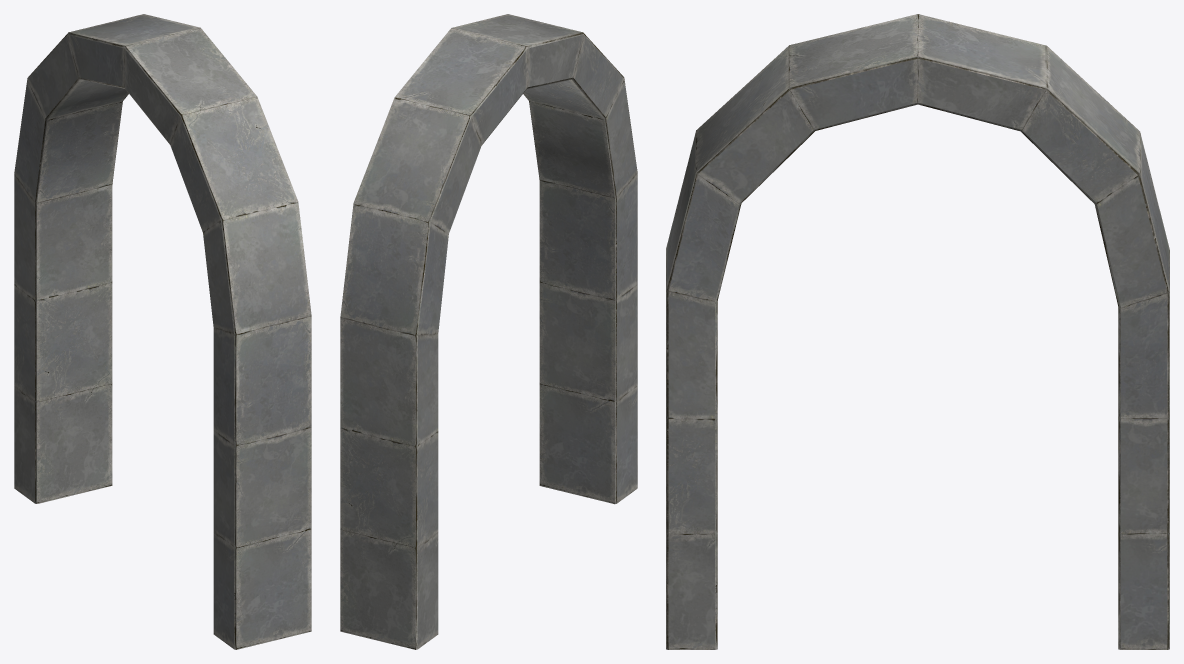
File: FBX_Doorway_Rugged.fbx
3 views of the same model, side by side, from view 1: azimuth 30°, elevation 25°; view 2: azimuth 150°, elevation 25°; view 3: azimuth 270°, elevation 25° (orthographic). The views are drawn at different scales.
Visible parts, largest first — view 1: Doorway_Rugged; view 2: Doorway_Rugged; view 3: Doorway_Rugged.
Boxes of the visible parts, left/top/right/bottom form: Doorway_Rugged: left=14, top=14, right=311, bottom=649; Doorway_Rugged: left=340, top=14, right=637, bottom=649; Doorway_Rugged: left=666, top=14, right=1169, bottom=649.
Bounding box in the file's own units: 50.65 × 327 × 251.
1 material, 1 textured.
